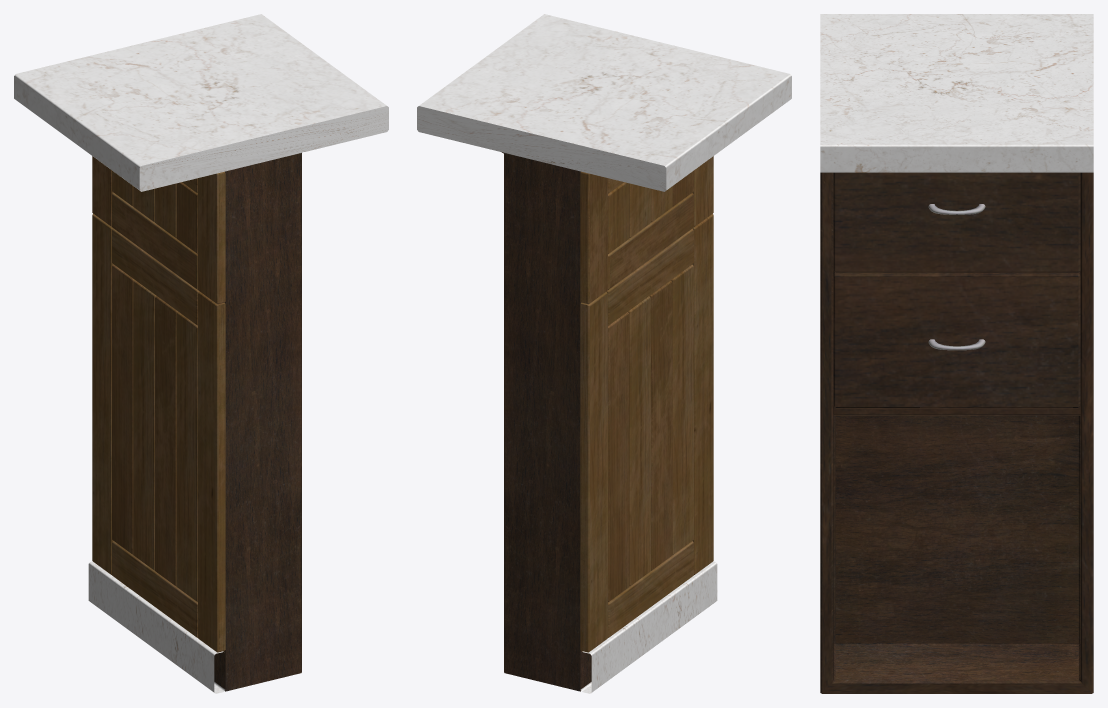
The model's file is SM_CounterTop_01_B.fbx.
3 renders of one model, left to right at view 1: azimuth 30°, elevation 25°; view 2: azimuth 150°, elevation 25°; view 3: azimuth 270°, elevation 25°, orthographic. The views are drawn at different scales.
Visible parts, largest first — view 1: SM_CounterTop_01_B_LOD0; view 2: SM_CounterTop_01_B_LOD0; view 3: SM_CounterTop_01_B_LOD0.
Part boxes in pixels (x1=…): SM_CounterTop_01_B_LOD0: x1=14, y1=14, x2=388, y2=693; SM_CounterTop_01_B_LOD0: x1=417, y1=14, x2=791, y2=693; SM_CounterTop_01_B_LOD0: x1=820, y1=14, x2=1093, y2=693.
Size of the model in its own units: 57.27 by 50 by 120.
